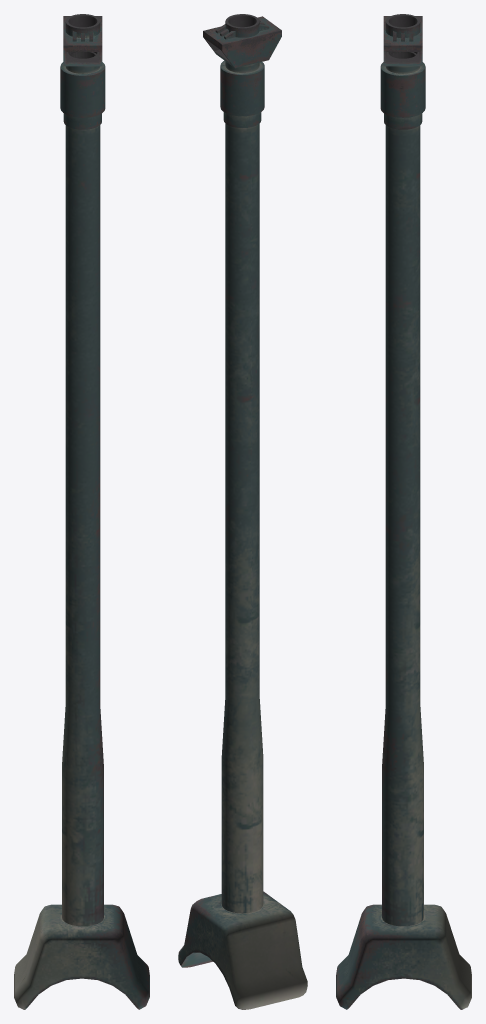
File: Gun_01.glb
The picture shows the model from 3 angles, left to right: view 1: azimuth 90°, elevation 25°; view 2: azimuth 210°, elevation 25°; view 3: azimuth 270°, elevation 25°; orthographic projection.
Visible parts, largest first — view 1: set_0_group_0; view 2: set_0_group_0; view 3: set_0_group_0.
Part boxes in pixels (box(x1,y1,x2,y2)): set_0_group_0: box(14, 14, 149, 1009); set_0_group_0: box(178, 14, 307, 1009); set_0_group_0: box(336, 14, 471, 1009).
Size of the model in its own units: 0.4285 by 5.62 by 0.7093.
1 material, 1 textured.
